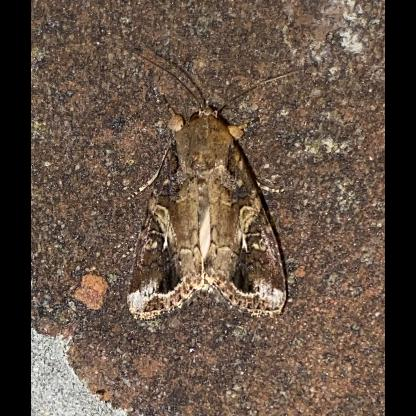Fall Armyworm Moth: (122, 48, 302, 324)
